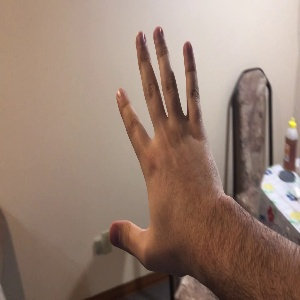hand: (111, 26, 221, 272)
